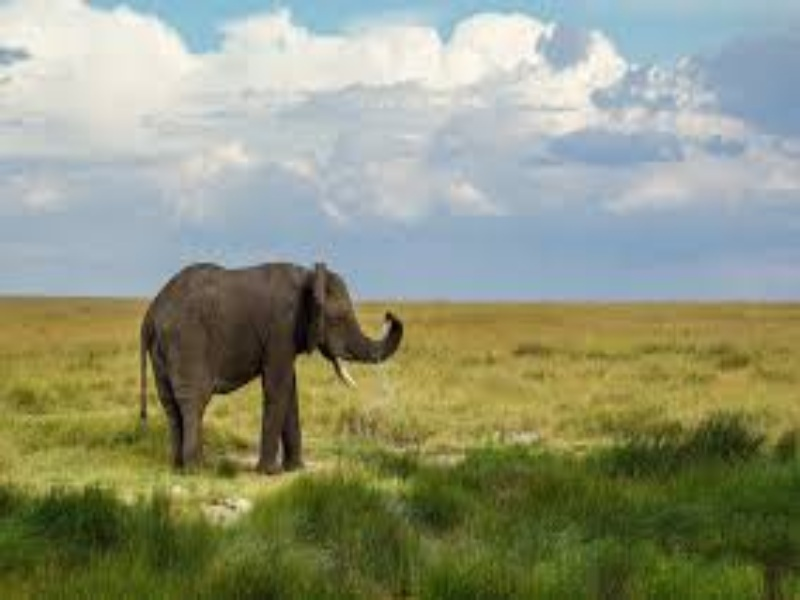elephant: (123, 253, 411, 486)
